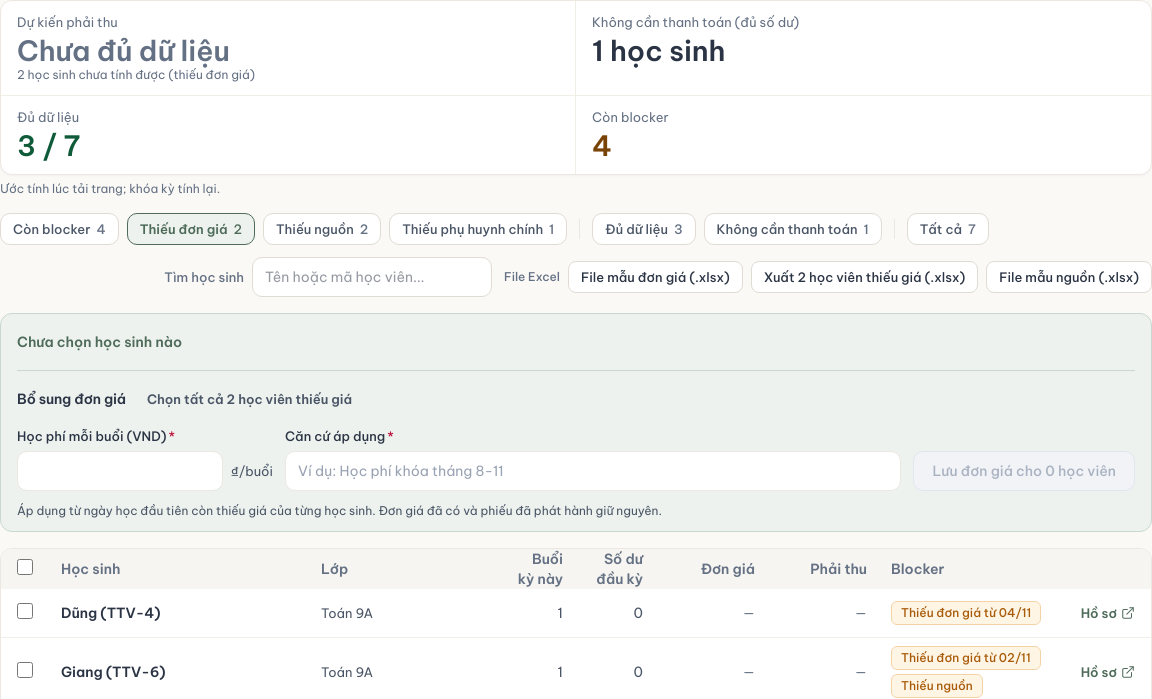
Test: TuitionReadinessTable · design 15a › selects with the header checkbox and links the summary as the disabled reason; no source fix without an active source
Click the button "Tất cả 7": [948, 229] box [907,213,989,245]
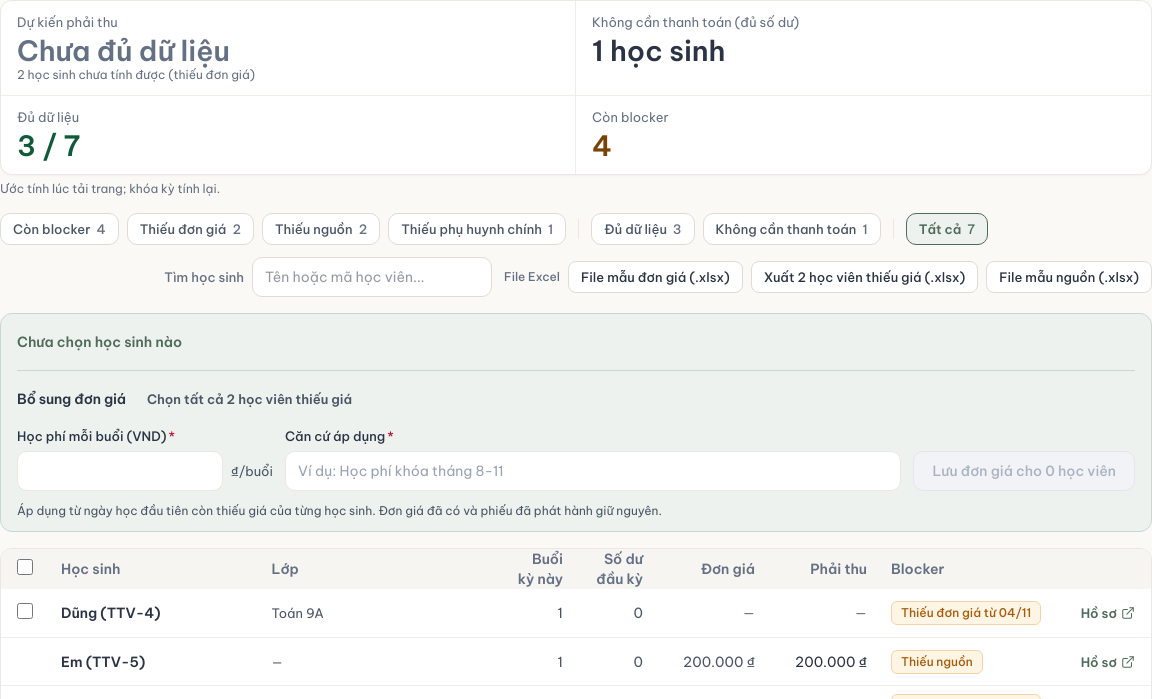
Expected: the button "Lưu đơn giá cho 0 học viên" is disabled, [914,451,1135,491]
Click the checkbox named "Chọn Dũng (TTV-4)": [25, 610] box [17,602,33,618]
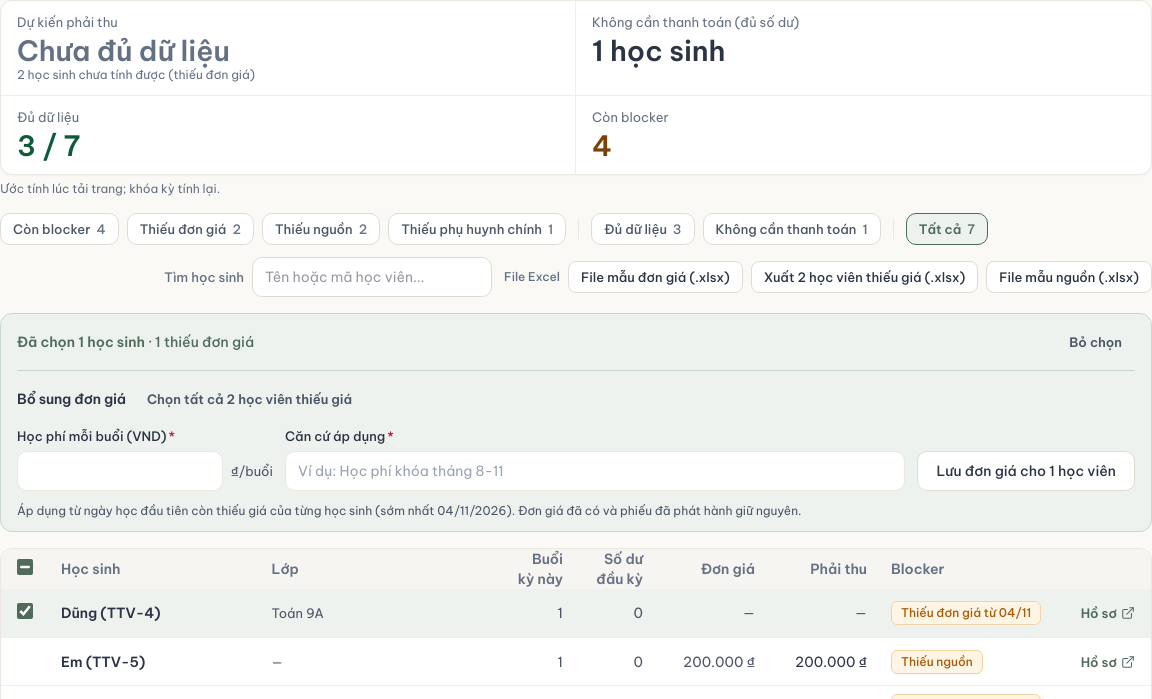
Click the checkbox named "Chọn tất cả học sinh đang hiển thị có thể bổ sung": [25, 566] box [17,558,33,574]
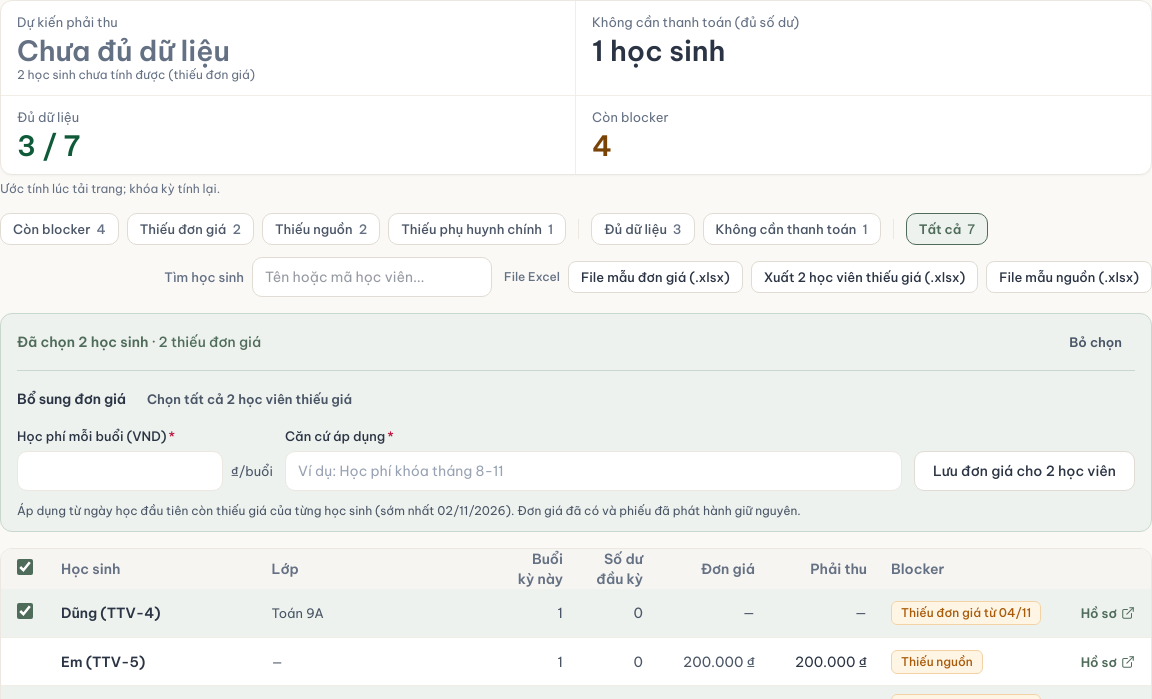
Expected: the checkbox named "Chọn tất cả học sinh đang hiển thị có thể bổ sung" is checked
Expected: the text "Đã chọn 2 học sinh · 2 thiếu đơn giá" is shown, [17,332,261,352]
Click the checkbox named "Chọn tất cả học sinh đang hiển thị có thể bổ sung": [25, 566] box [17,558,33,574]
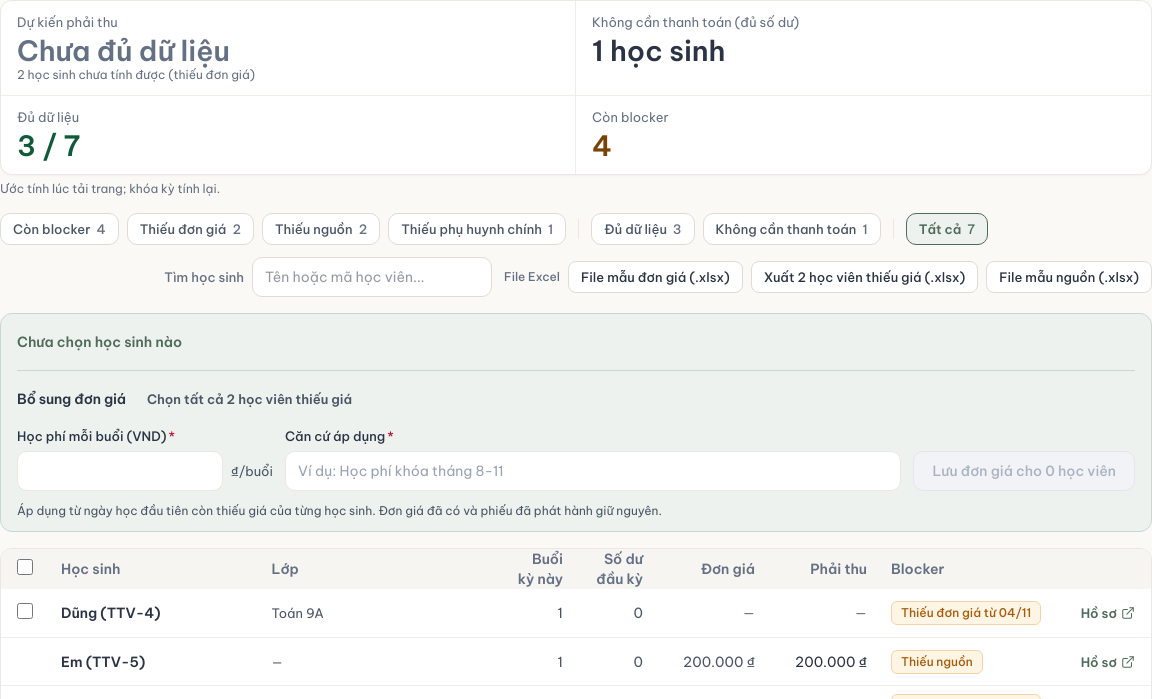
Expected: the checkbox named "Chọn tất cả học sinh đang hiển thị có thể bổ sung" is not checked, [17,558,33,574]
Expected: the text "Chưa chọn học sinh nào" is shown, [17,332,182,352]
